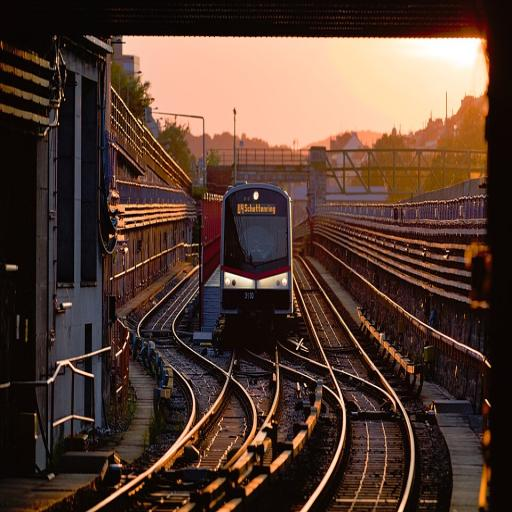V-Wagen: (218, 180, 296, 344)
